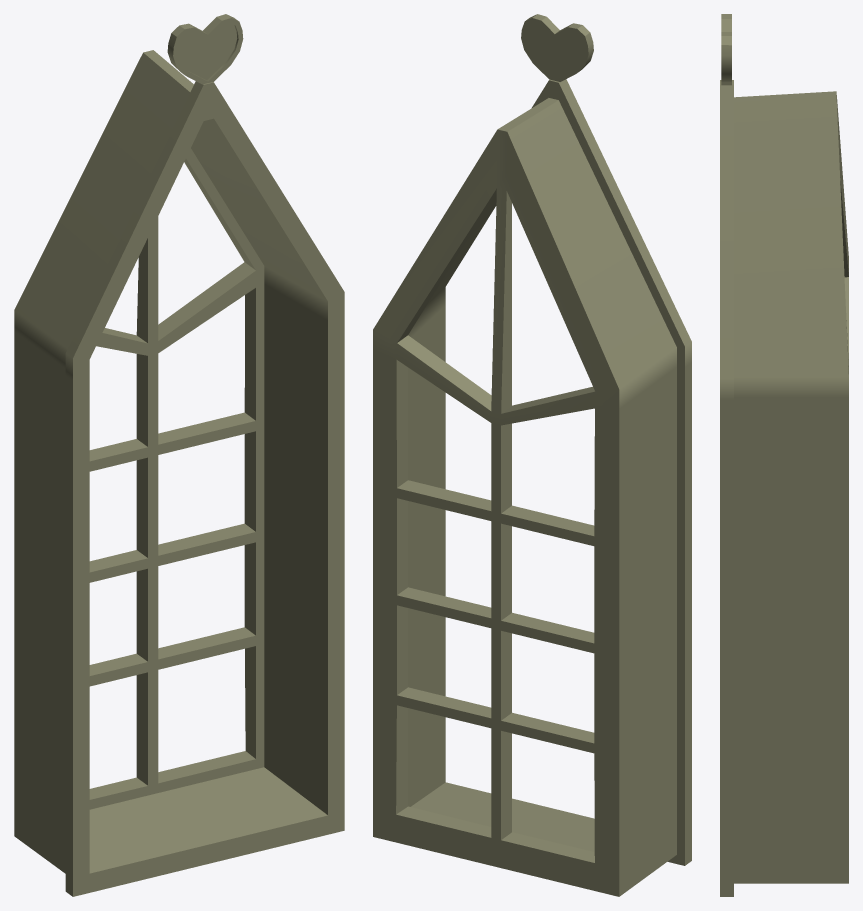
File: Mesh_Ventana_v02.fbx
The picture shows the model from 3 angles, left to right: view 1: azimuth 30°, elevation 25°; view 2: azimuth 150°, elevation 25°; view 3: azimuth 270°, elevation 25°; orthographic projection. The views are drawn at different scales.
Visible parts, largest first — view 1: Mesh_Ventana_low_v02; view 2: Mesh_Ventana_low_v02; view 3: Mesh_Ventana_low_v02.
Part boxes in pixels (x1,y1,x2,y2): Mesh_Ventana_low_v02: [14, 14, 344, 896]; Mesh_Ventana_low_v02: [373, 14, 691, 896]; Mesh_Ventana_low_v02: [720, 14, 848, 896].
Size of the model in its own units: 2.07 by 6.1 by 0.8818.
